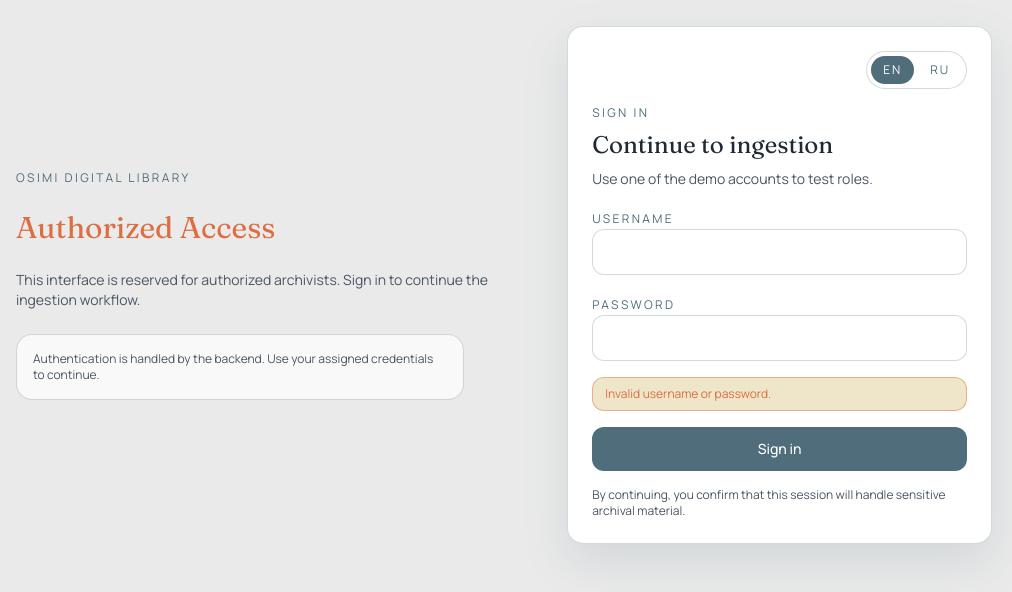
Test: login page localization › retranslates an existing error when the locale changes
Expected: the message reads "Invalid username or password.", left=605, top=385, right=771, bottom=402
Click the button "RU".
click(940, 70)  # box left=918, top=56, right=962, bottom=84
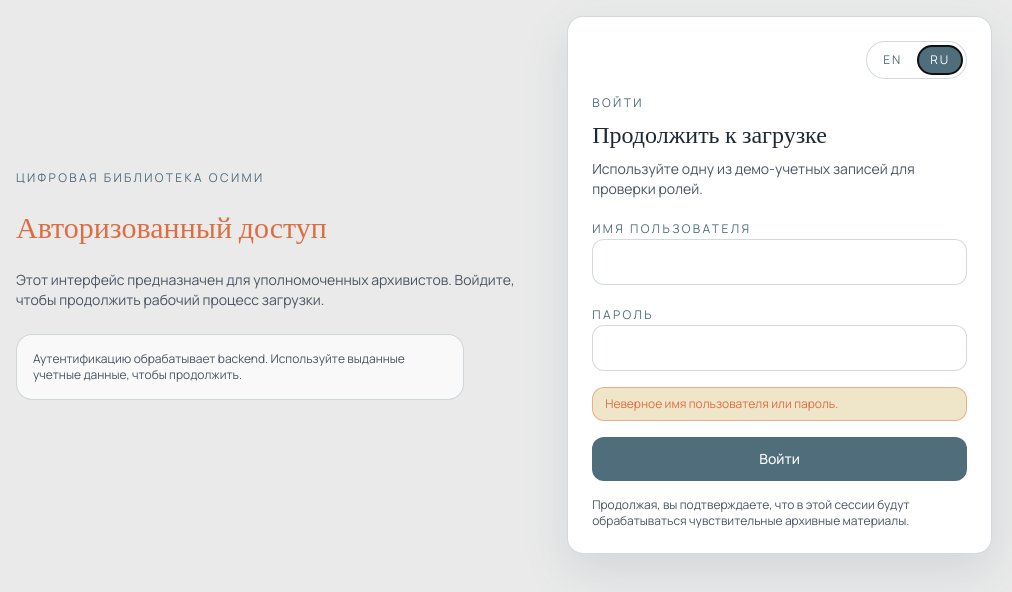
Now the message reads "Неверное имя пользователя или пароль.", box left=605, top=395, right=838, bottom=412
